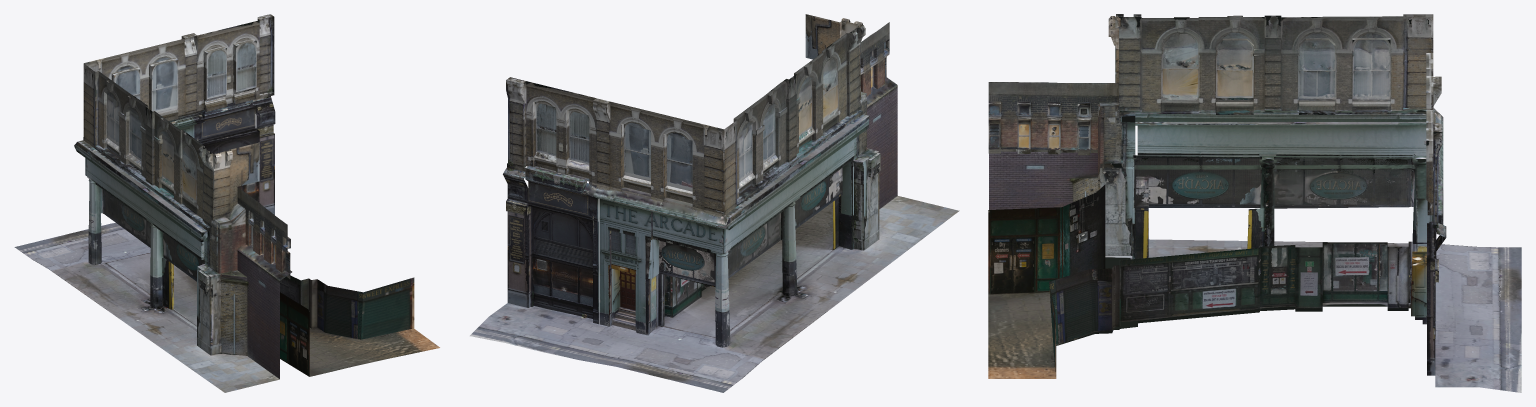
The model's file is building1.glb.
3 views of the same model, side by side, from view 1: azimuth 30°, elevation 25°; view 2: azimuth 150°, elevation 25°; view 3: azimuth 270°, elevation 25° (orthographic). The views are drawn at different scales.
Visible parts, largest first — view 1: Plane_0; view 2: Plane_0; view 3: Plane_0.
Part boxes in pixels (bbox=[...]): Plane_0: bbox=[14, 14, 439, 392]; Plane_0: bbox=[470, 14, 959, 392]; Plane_0: bbox=[988, 14, 1521, 392].
Bounding box in the file's own units: 16.93 × 14.75 × 27.29.
1 material, 1 textured.
